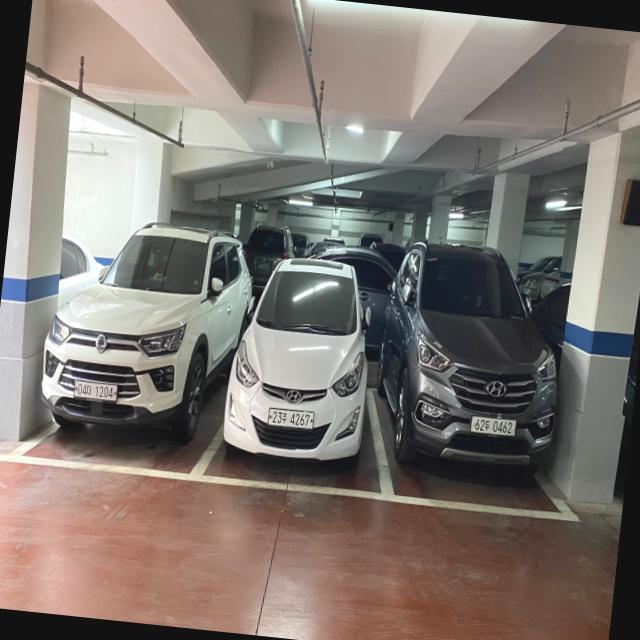car: (369, 238, 574, 484), (39, 206, 237, 447), (218, 248, 382, 477)
